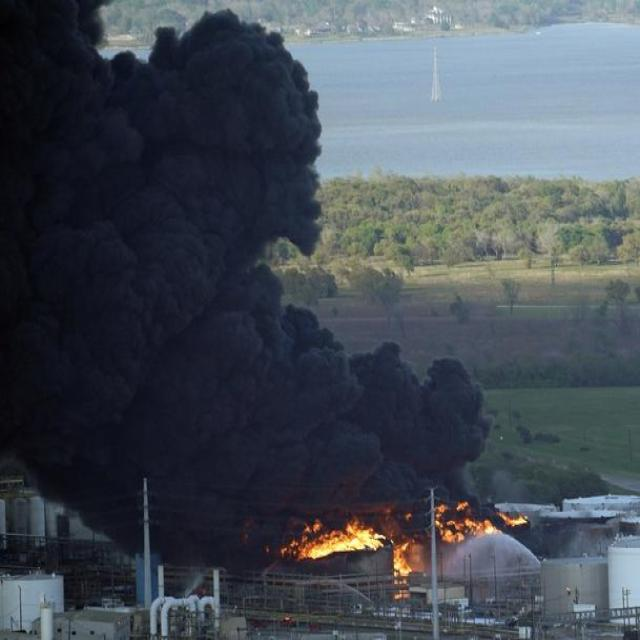Fire: (297, 510, 383, 560), (436, 503, 530, 541), (394, 539, 414, 577)
Smoke: (0, 1, 493, 503)
